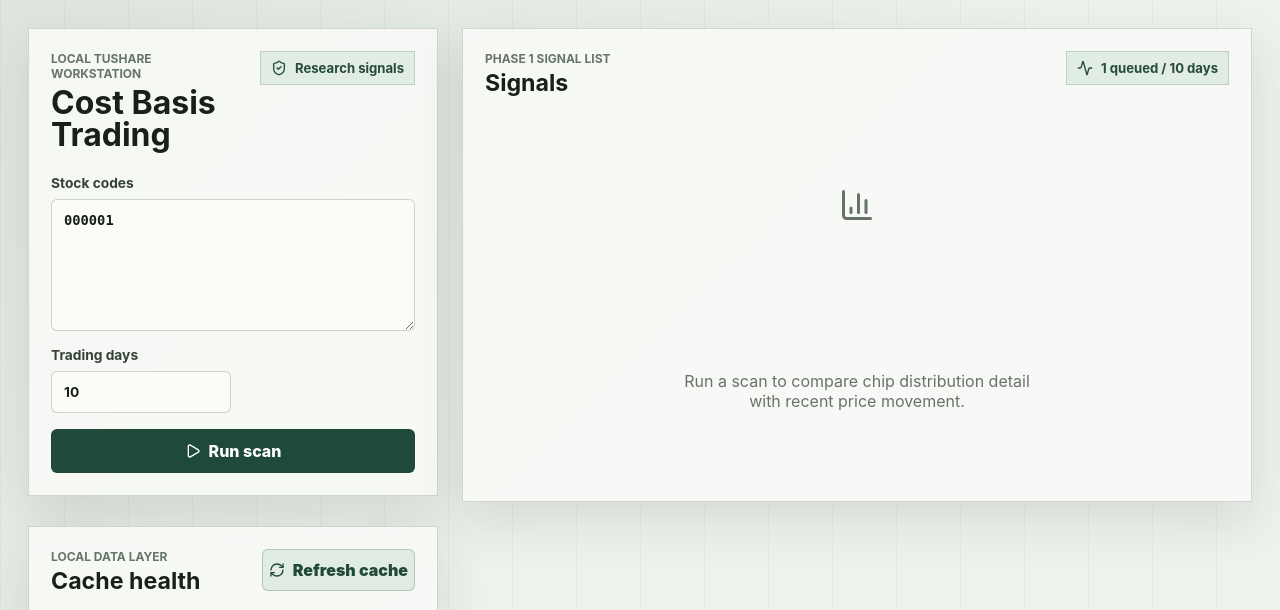
Test: App › loads market cache health without exposing cached payloads
Click the button "Refresh cache" at (338, 570), box [262,549,415,591]
(page scrolled)
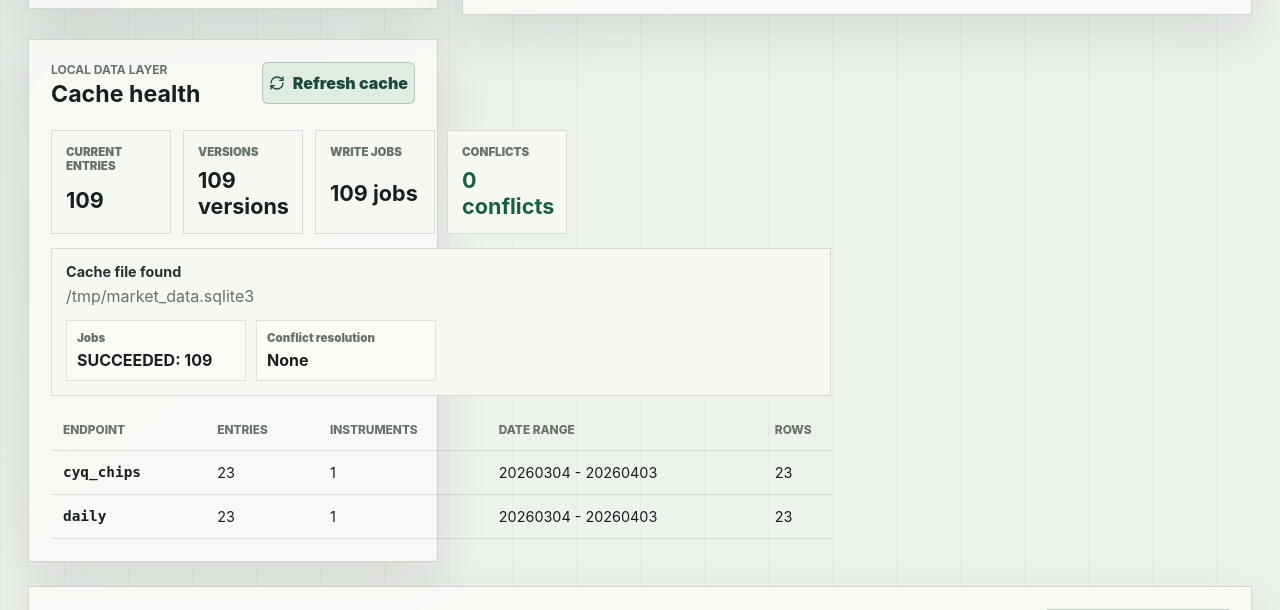
Expected: the text "109" is shown, [66,187,104,213]
Expected: the text "cyq_chips" is shown, [51,451,205,495]
Expected: the text "daily" is shown, [51,495,205,539]
